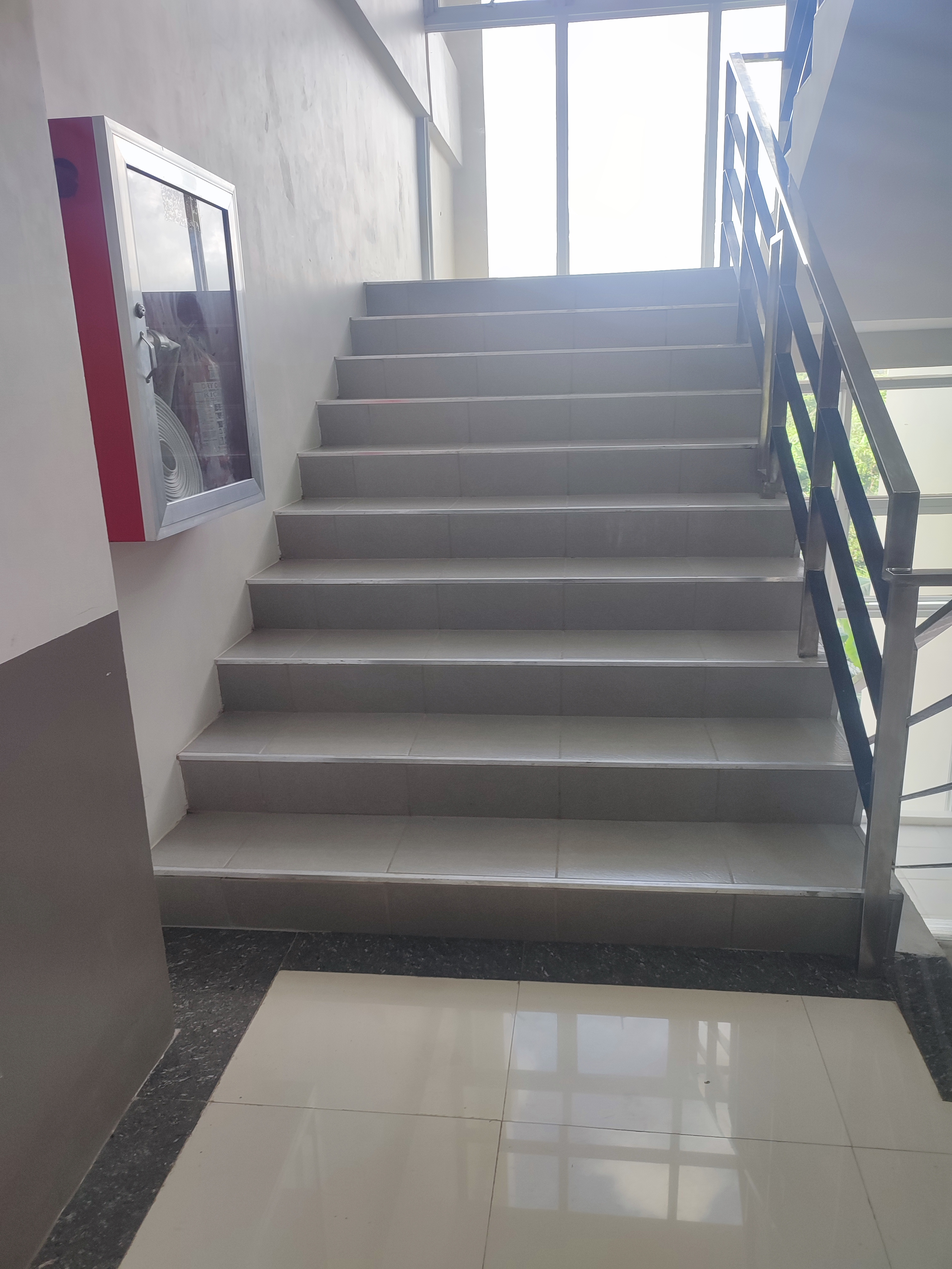Staircase: (155, 129, 914, 1004)
